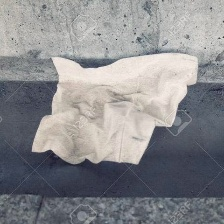tissue: (23, 45, 204, 171)
